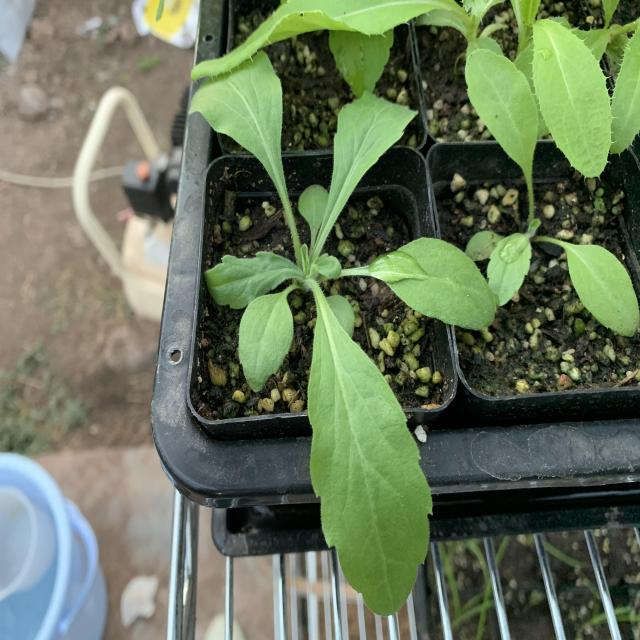horseweed: (196, 54, 484, 586)
